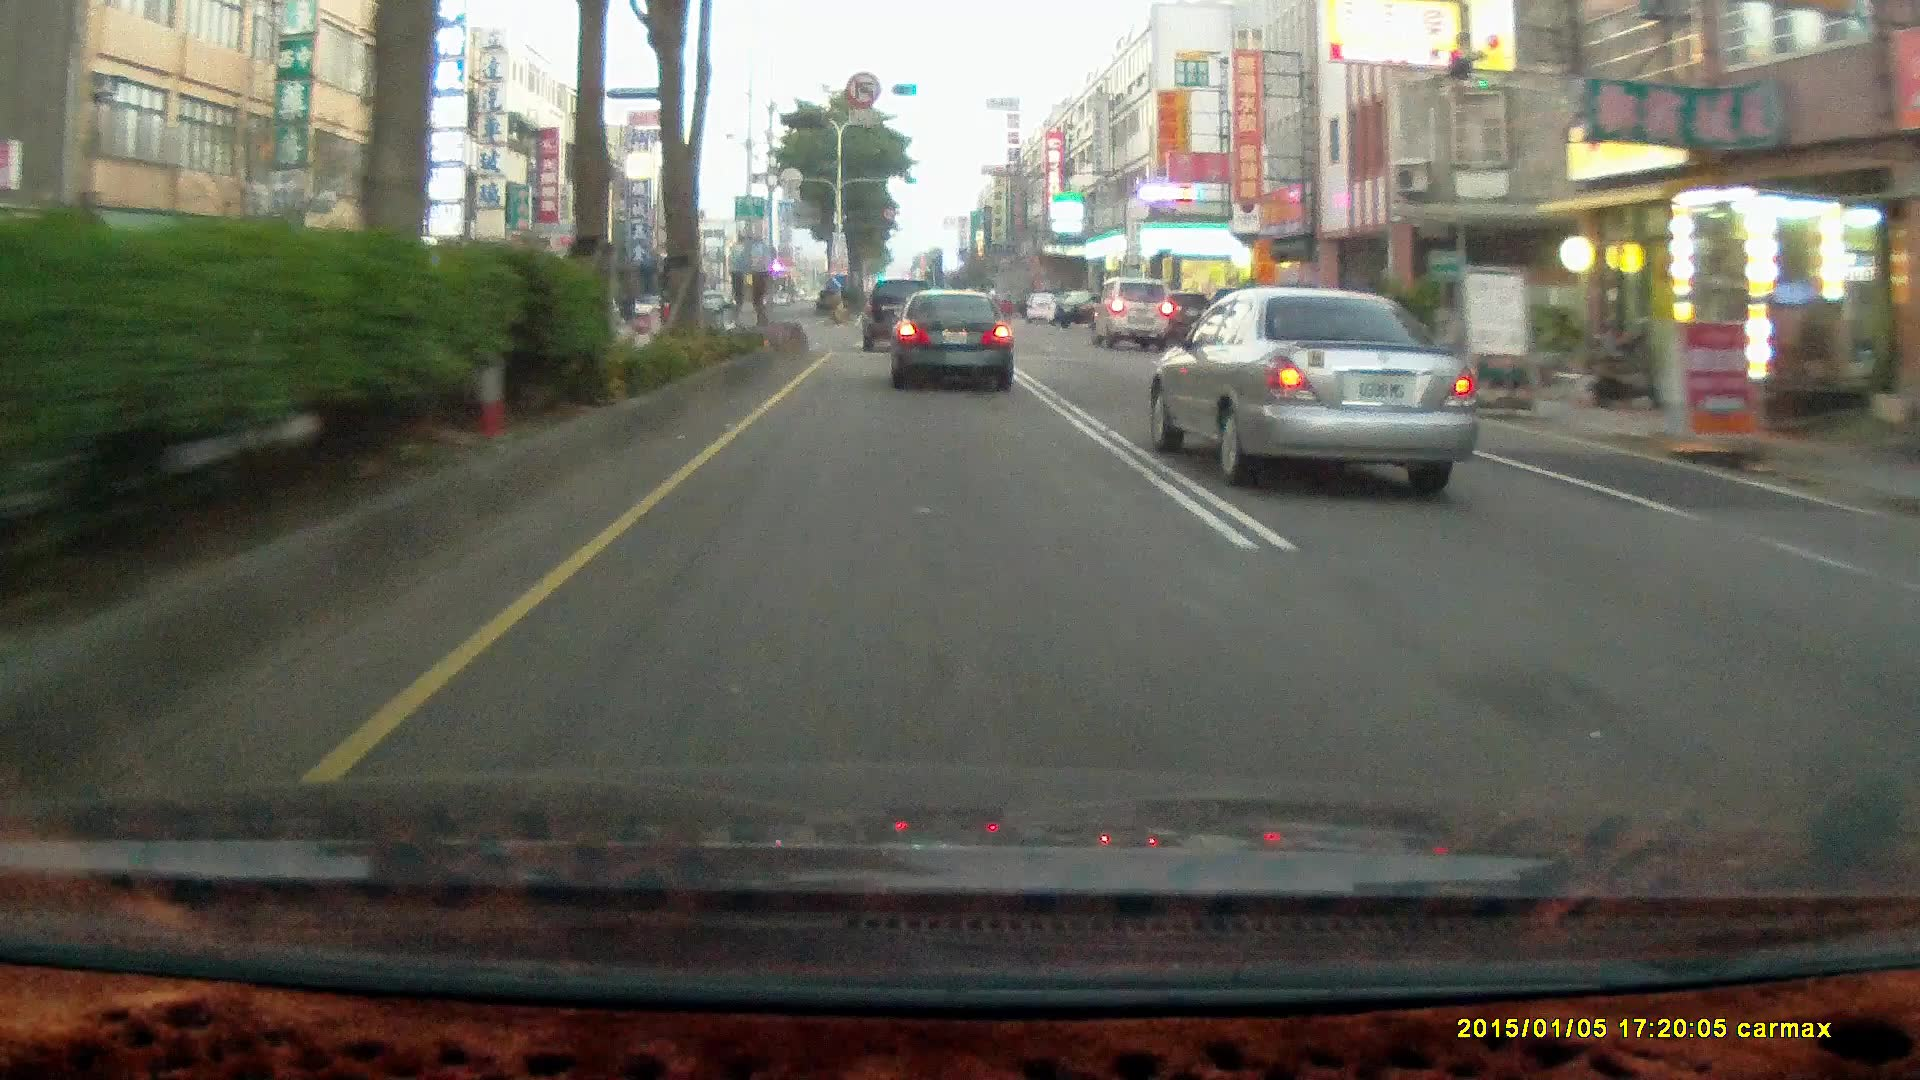vehicle: (1149, 286, 1480, 481), (889, 285, 1019, 394), (889, 284, 1011, 388), (861, 278, 940, 355), (1092, 276, 1174, 349), (1091, 274, 1172, 347), (861, 278, 938, 351), (1054, 285, 1114, 324), (1026, 287, 1060, 316)
